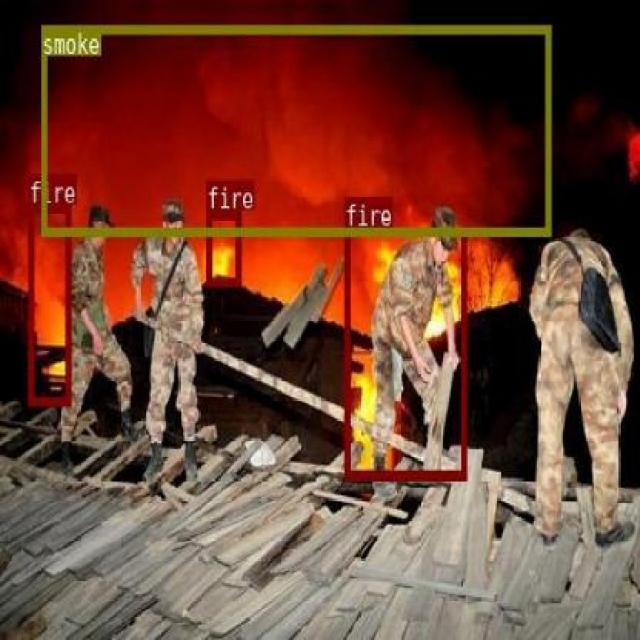Fire: (27, 204, 70, 404), (204, 208, 240, 286)
Smoke: (39, 23, 550, 235)
